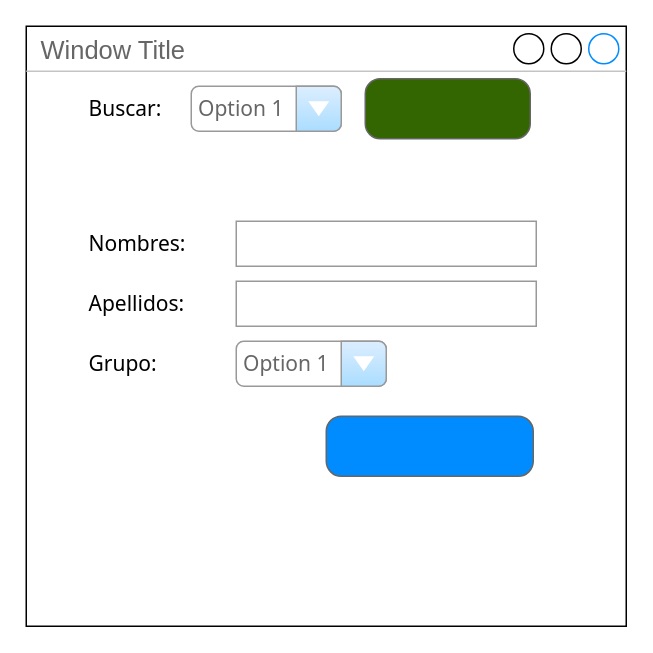
Some shapes in this 653 by 653 pixel diagram are drawn without their labels. The centre of each missing label's shape, as x and y in pixels:
"Actualizar" belongs at point (429, 445).
"Buscar" belongs at point (447, 108).
